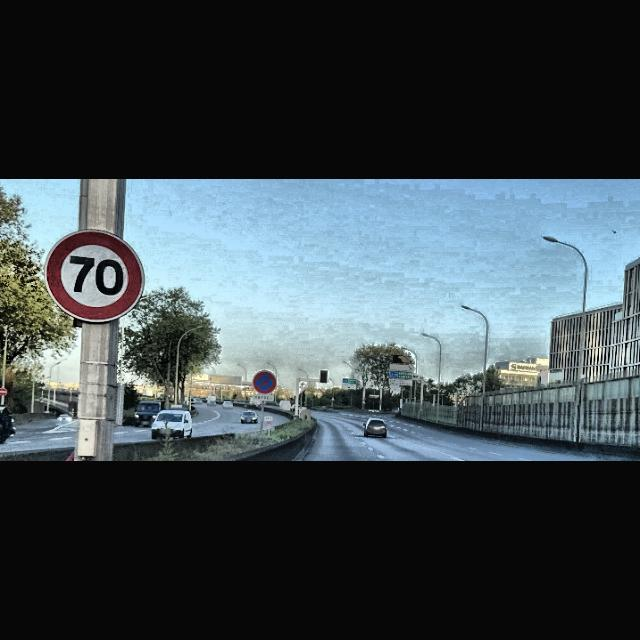speed_70: (43, 232, 144, 324)
